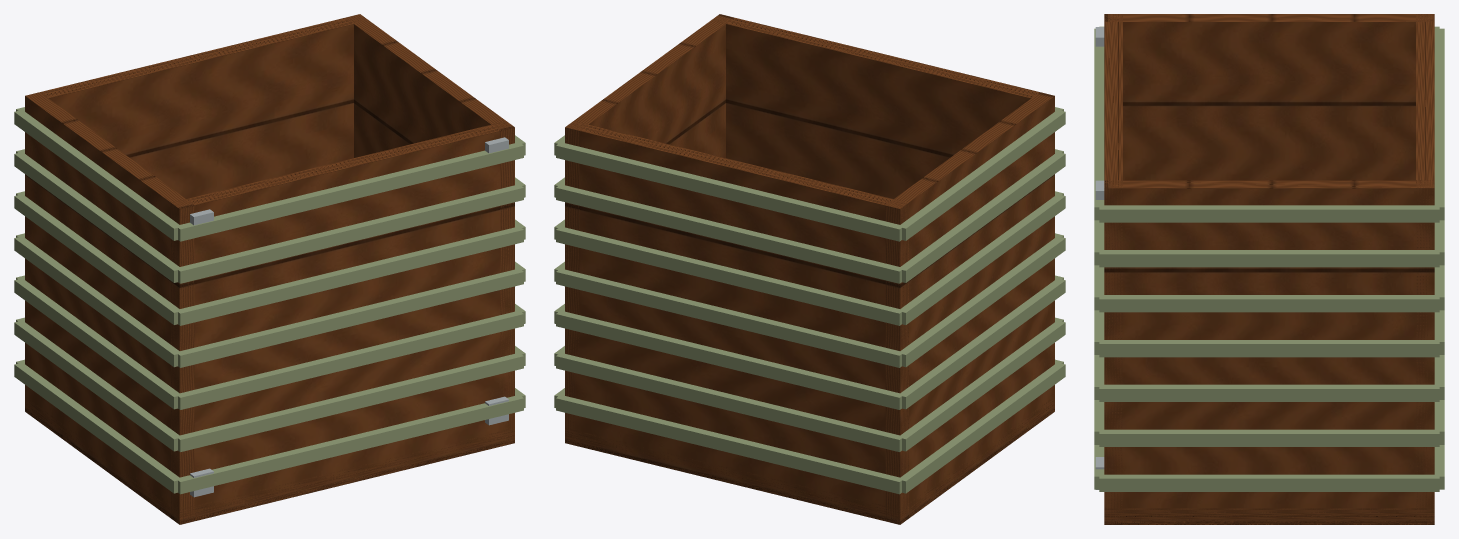
The model's file is prehistoric-survivor-settlement-grain-storage-bin-e5869df6__23218.glb.
3 renders of one model, left to right at view 1: azimuth 30°, elevation 25°; view 2: azimuth 150°, elevation 25°; view 3: azimuth 270°, elevation 25°, orthographic. The views are drawn at different scales.
Visible parts, largest first — view 1: grain-storage-bin; view 2: grain-storage-bin; view 3: grain-storage-bin.
Part boxes in pixels (<box>): grain-storage-bin: <box>14,14,525,524</box>; grain-storage-bin: <box>554,14,1065,524</box>; grain-storage-bin: <box>1094,14,1444,524</box>.
Size of the model in its own units: 1.05 by 0.9 by 0.849.
3 materials, 1 textured.
